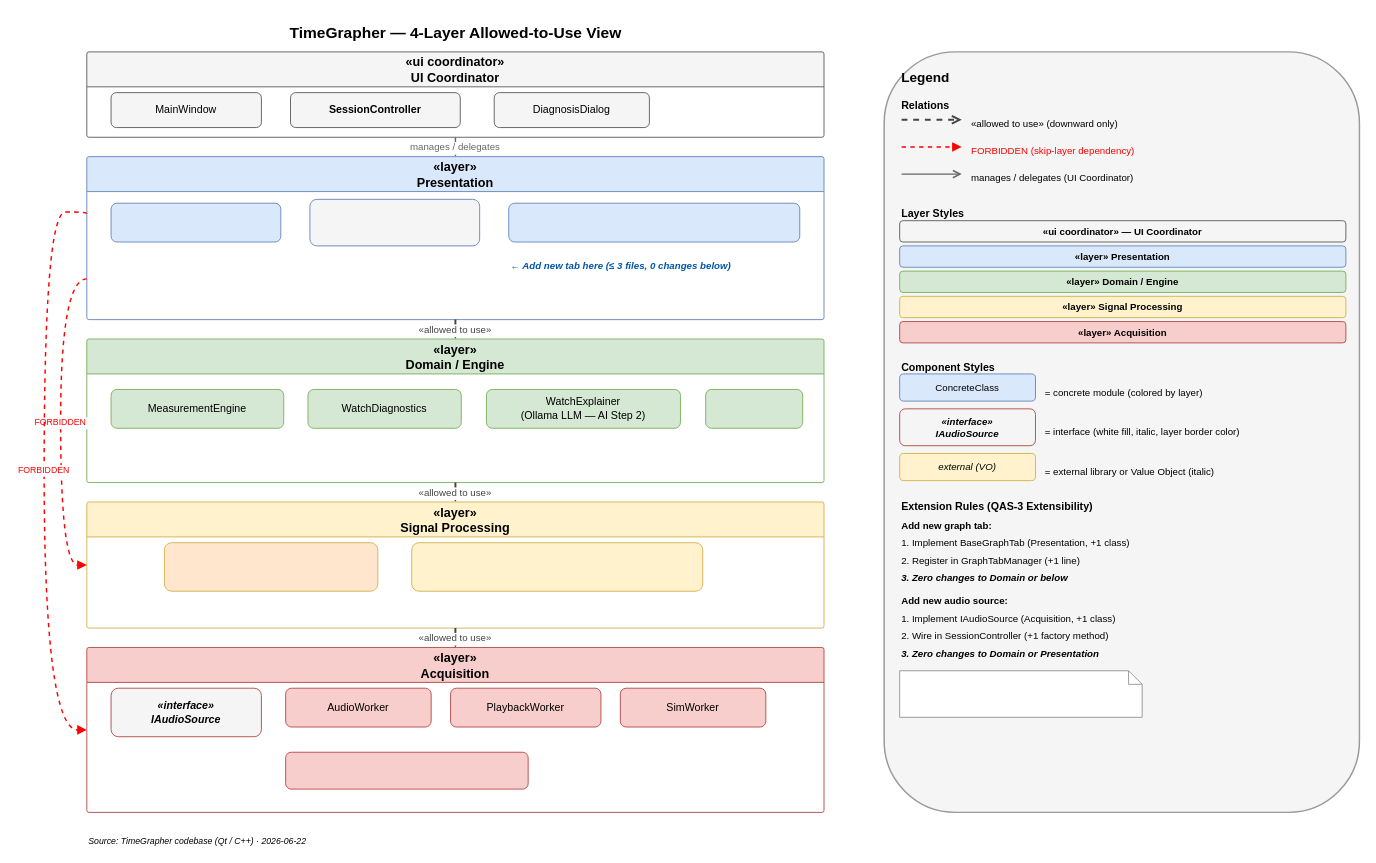
This 1376x863 diagram has some shape labels left out. Here are the shapes that lost their labels. From the top down, the centre of each, then its label:
At (x=195, y=222): "GraphTabManager".
At (x=394, y=222): "«interface» BaseGraphTab".
At (x=654, y=222): "14 Concrete Tabs (TraceTab, VarioTab, BeatErrorTab, …)".
At (x=754, y=408): "Measurement / WatchMetrics (Value Objects)".
At (x=270, y=566): "DSPWorker [ADR-001] (dedicated T2 thread)".
At (x=557, y=566): "tg_process (external library) FilterChain (LP/HP) · BeatDetector".
At (x=1020, y=693): "Notation: UML Color used to enhance readability only".
At (x=406, y=770): "AudioRingBuffer (lock-free SPSC)".
